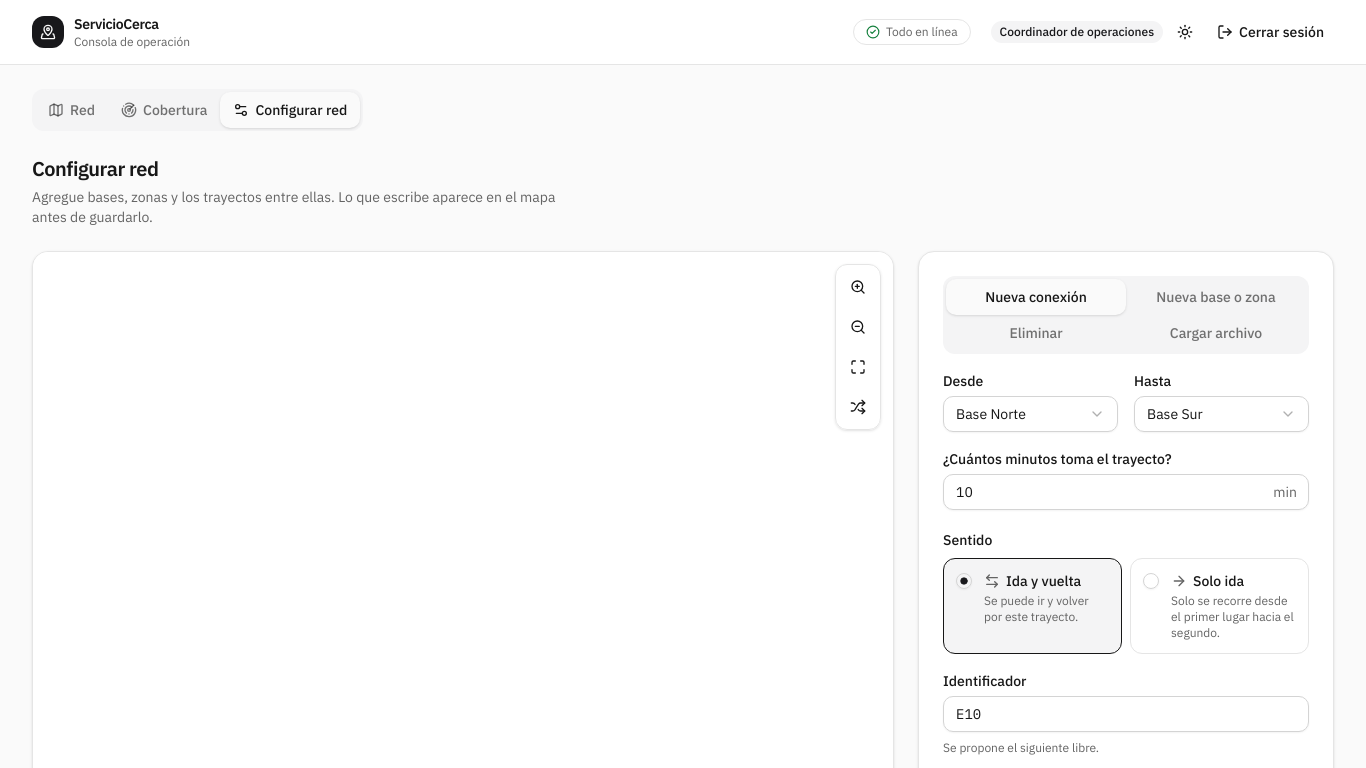
Test: Nueva conexión › propone el id, dibuja la vista previa y muestra el INVALID_WEIGHT del contrato
The width and height of the screenshot is (1366, 768).
Check: the heading "Configurar red" is shown, box [32,155,158,182]
Check: the field labelled "Identificador" holds "E10", box [943,696,1309,732]
Click the dropdown named "Hasta" at x=1222, y=414, box [1134,396,1309,432]
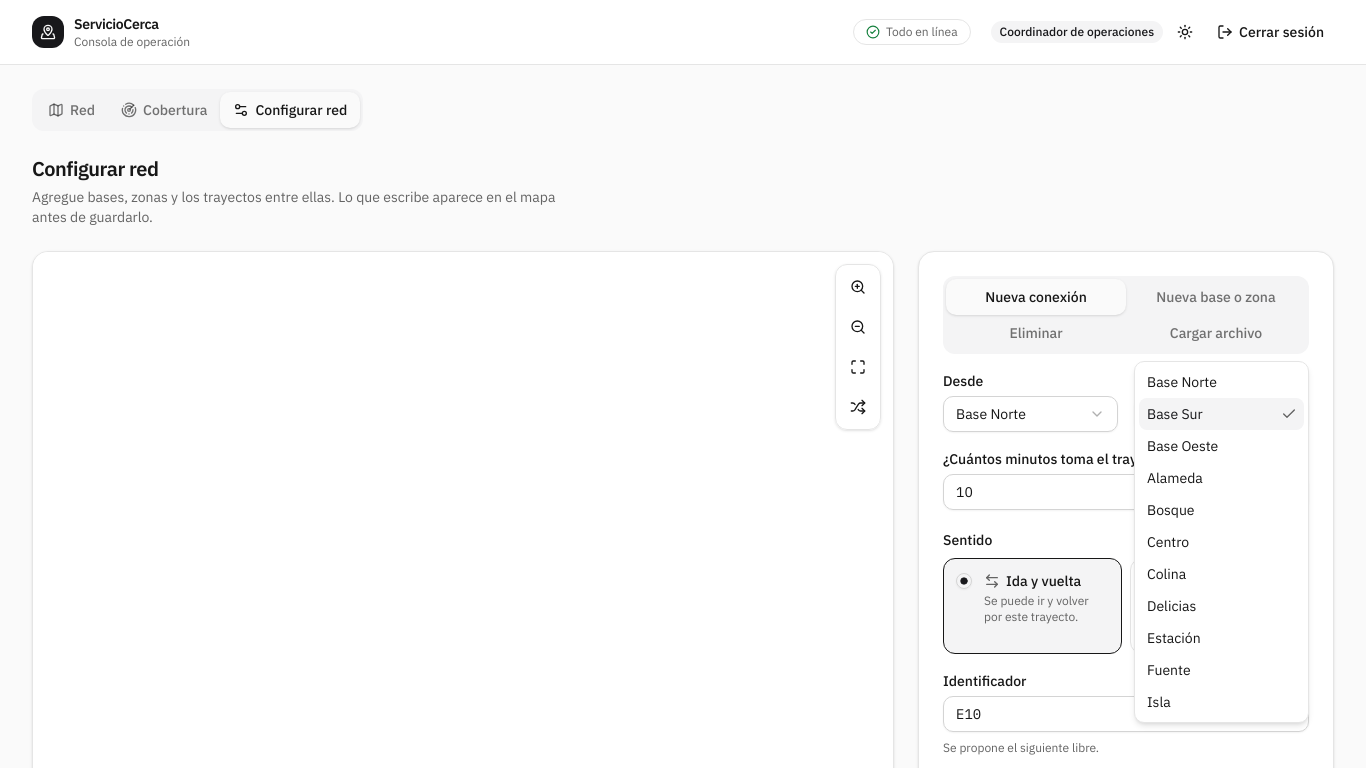
Click the option "Isla" at x=1159, y=702, box [1147,693,1171,711]
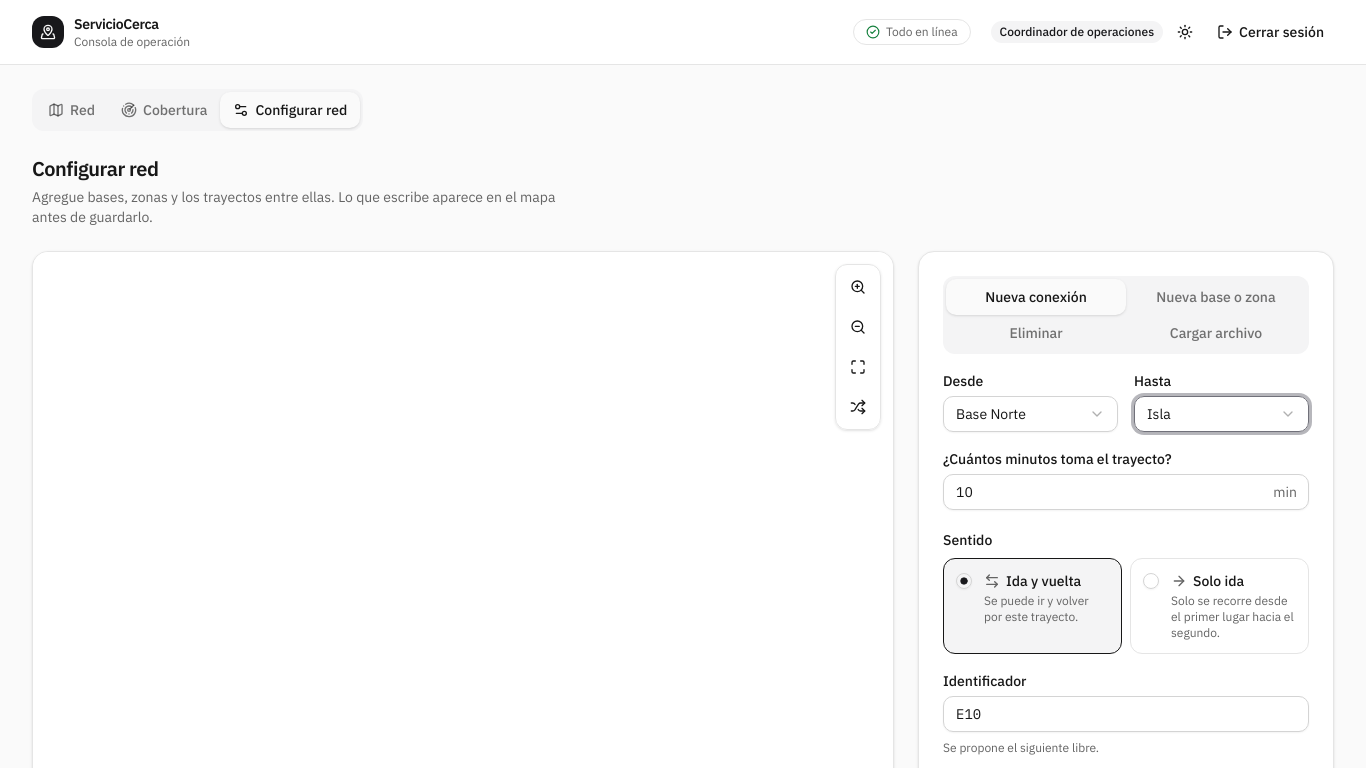
Replace the text in the number field labelled "¿Cuántos minutos toma el trayecto?" with "-5" at x=1126, y=492, box [943,474,1309,510]
(page scrolled)
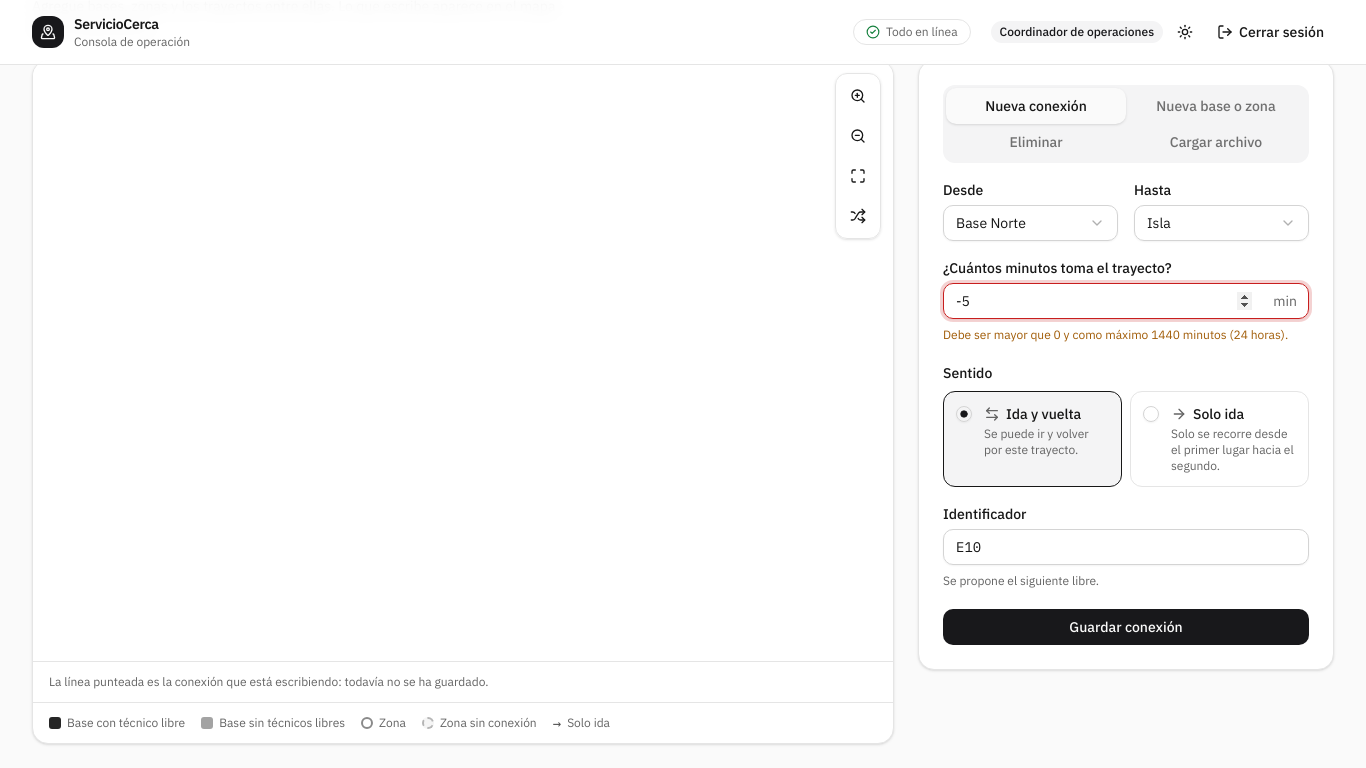
Check: the text "Debe ser mayor que 0 y como máximo 1440 minutos (24 horas)." is shown, box [943,327,1288,342]
Click the button "Guardar conexión" at x=1126, y=627, box [943,609,1309,645]
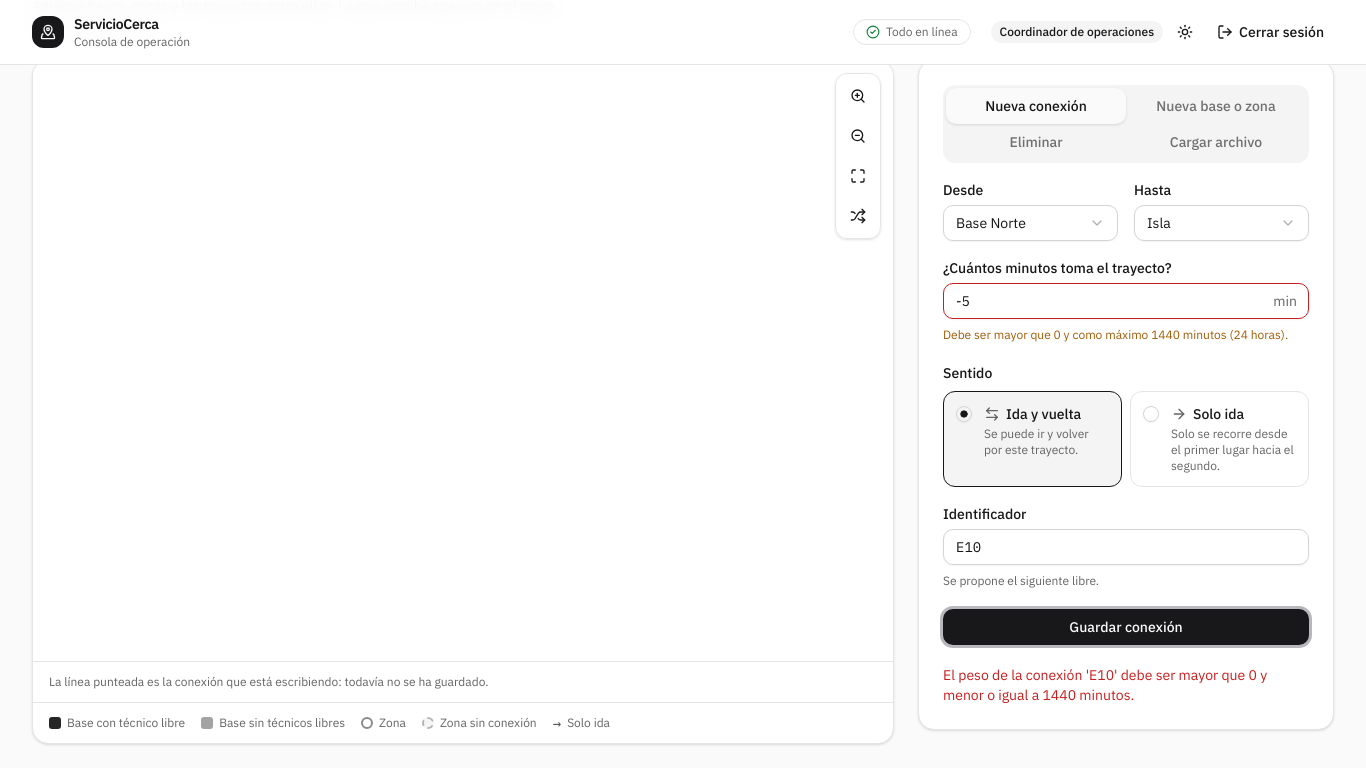
Check: the 2nd message shows "El peso de la conexión 'E10' debe ser mayor que 0 y menor o igual a 1440 minutos.", box [943,666,1267,704]
